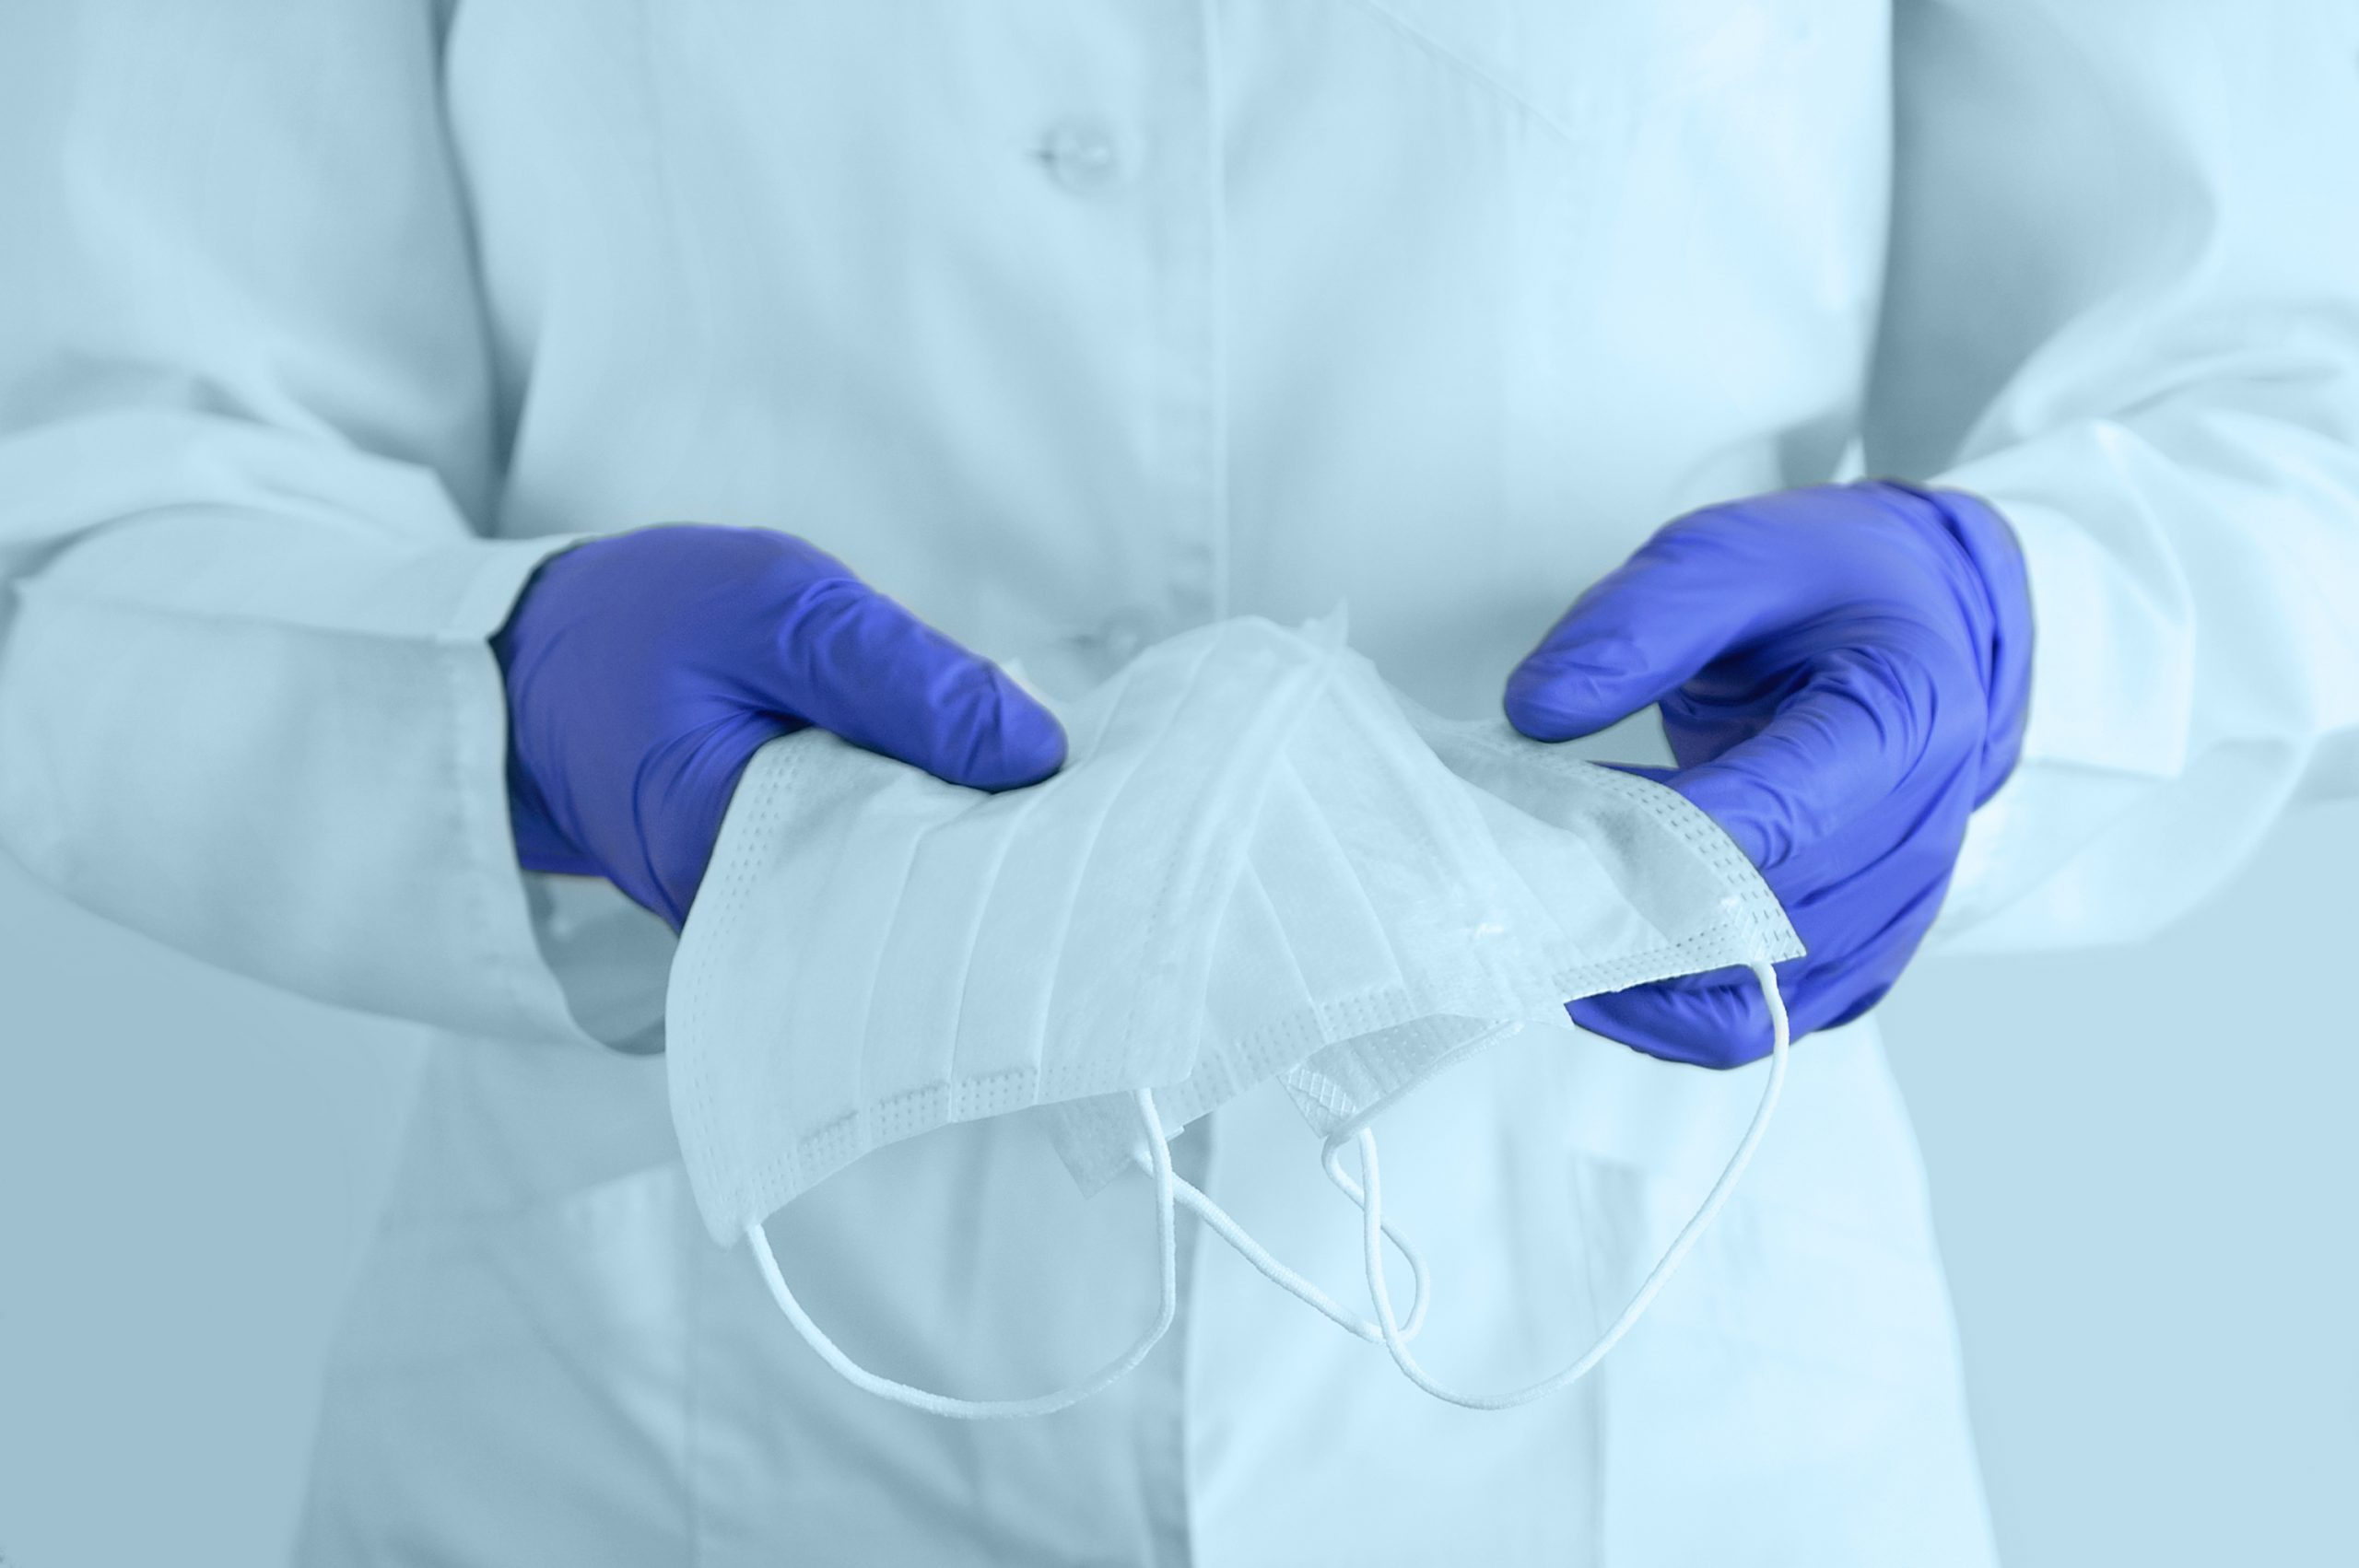Gloves: (1484, 471, 2095, 1081), (490, 513, 1066, 950)
